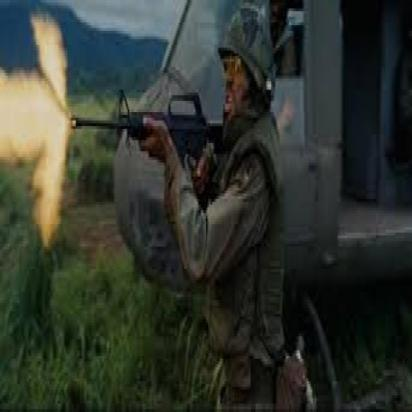Gun: (70, 83, 227, 185)
